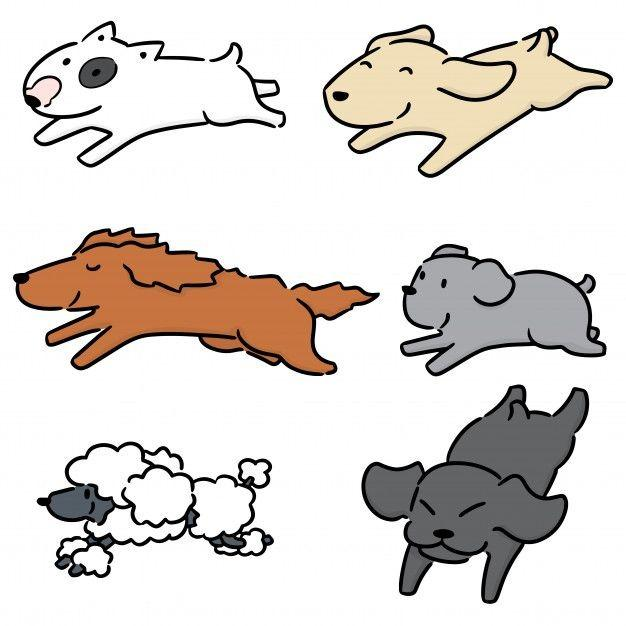adult_dog: (13, 221, 383, 380), (358, 380, 593, 607), (317, 20, 616, 182), (18, 17, 294, 171), (29, 439, 277, 581)
puppy-dog: (395, 241, 610, 380)
